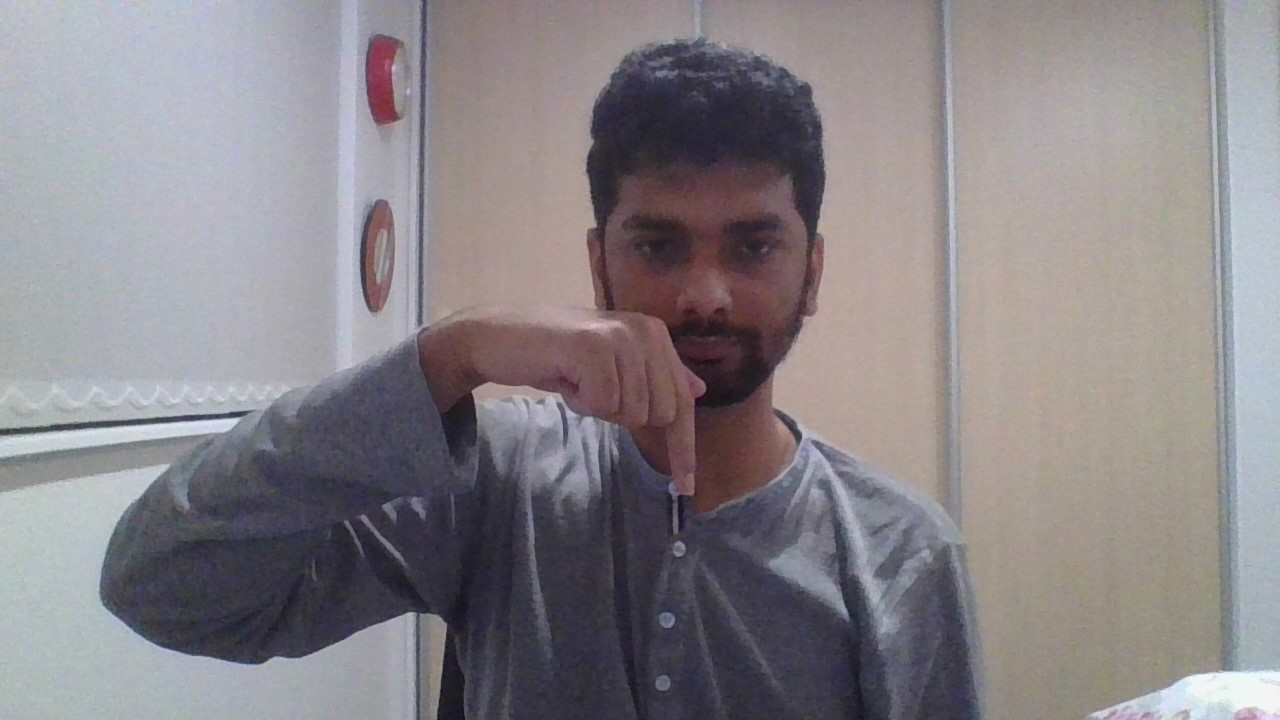below: (417, 301, 708, 496)
